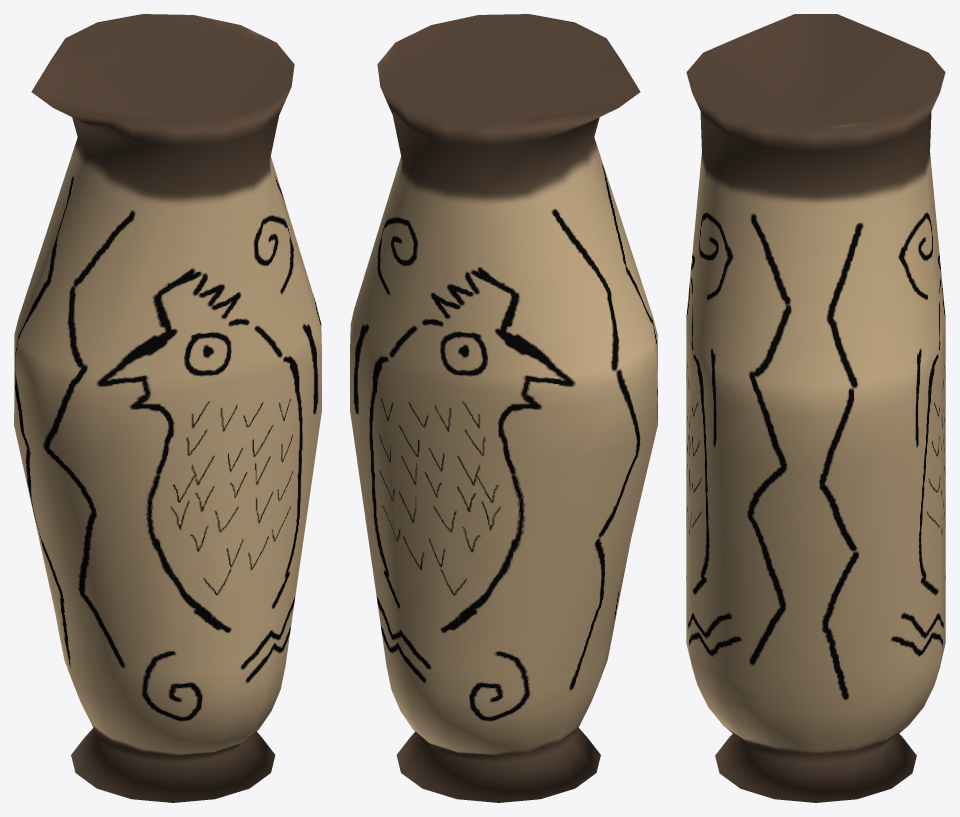
Rendered from Pottery_01.fbx.
The picture shows the model from 3 angles, left to right: view 1: azimuth 30°, elevation 25°; view 2: azimuth 150°, elevation 25°; view 3: azimuth 270°, elevation 25°; orthographic projection.
Visible parts, largest first — view 1: Vase; view 2: Vase; view 3: Vase.
Boxes of the visible parts, bbox=[...] form: Vase: bbox=[14, 14, 321, 802]; Vase: bbox=[350, 14, 657, 802]; Vase: bbox=[686, 14, 945, 802].
Size of the model in its own units: 4.92 by 11.64 by 4.
